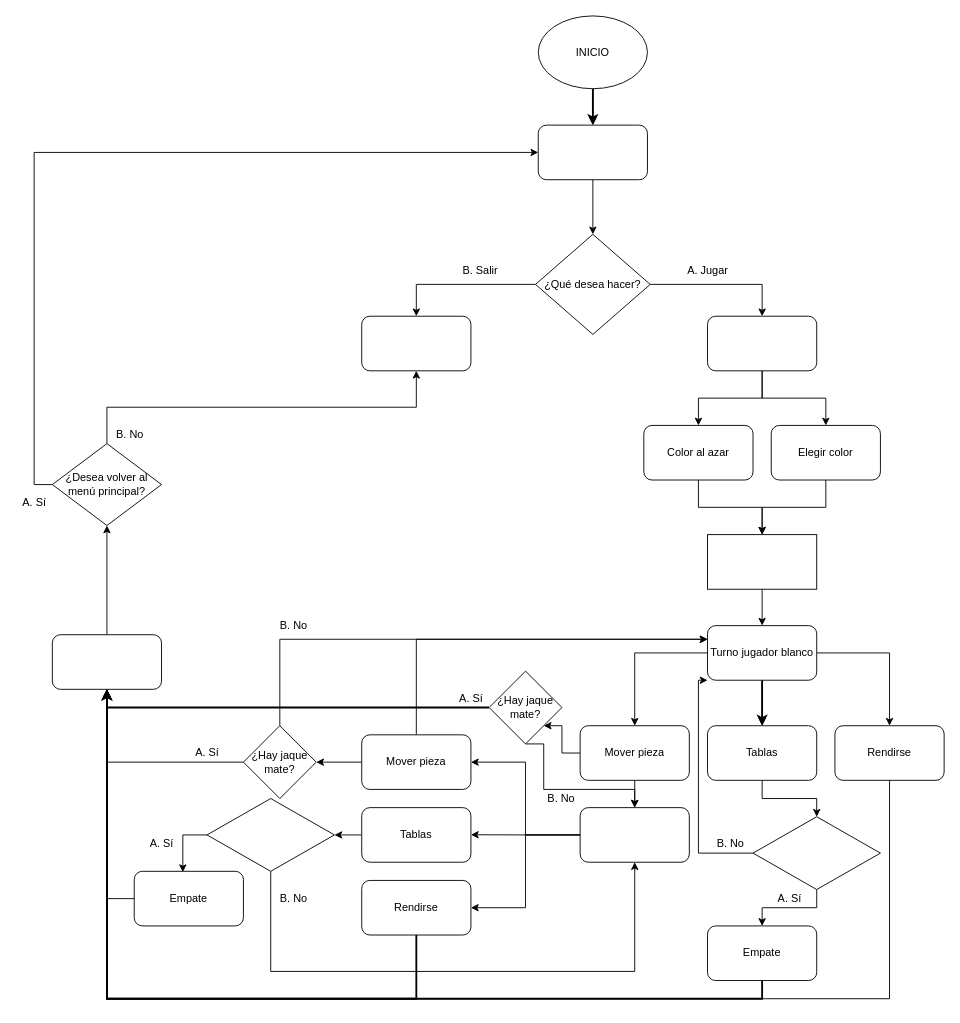
The diagram is 960 pixels wide and 1023 high, and some of its shapes have lost their labels. The shapes that lost their labels are listed below. From the top down, each one's centre as x and y in pixels, then its label:
(592,152): MENÚ PRINCIPAL
(416,343): FINAL
(762,343): Insertar el nombre de jugadores
(762,561): Comenzar partida
(106,661): Indicar jugador ganador/Empate
(270,834): Jugador blanco, ¿aceptas?
(634,834): Turno jugador negro
(816,853): Jugador negro, ¿aceptas?
